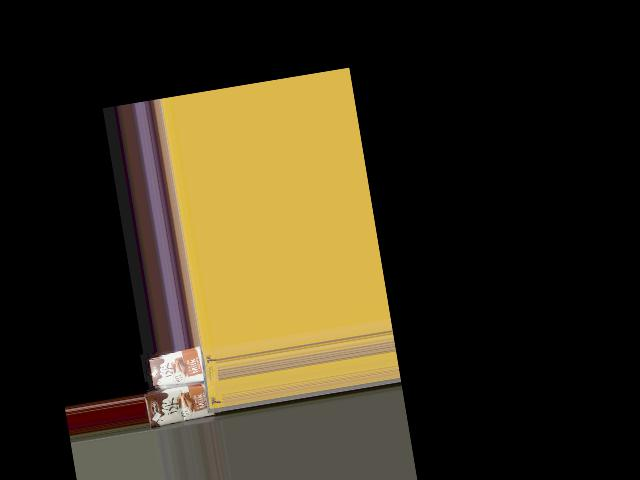chocolate: (146, 342, 212, 389)
